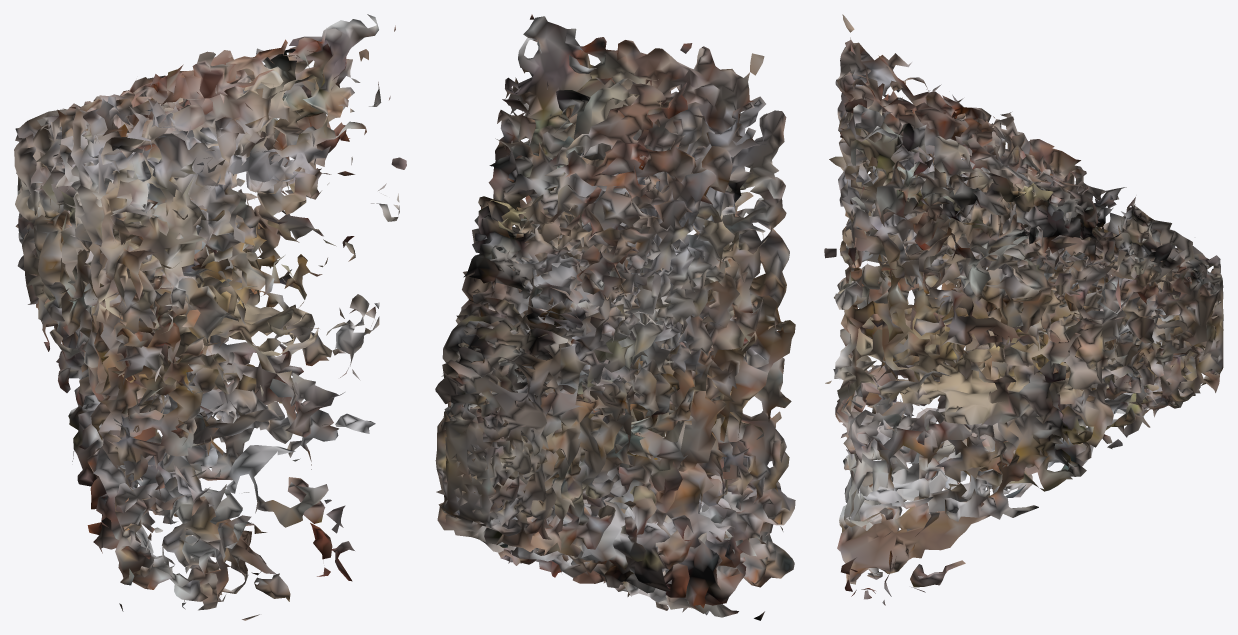
Rendered from room_solid_mesh.glb.
3 views of the same model, side by side, from view 1: azimuth 30°, elevation 25°; view 2: azimuth 150°, elevation 25°; view 3: azimuth 270°, elevation 25° (orthographic). The views are drawn at different scales.
Parts seen in each view (by area): view 1: room_solid_mesh.ply; view 2: room_solid_mesh.ply; view 3: room_solid_mesh.ply.
Part boxes in pixels (left/top/right/bottom): room_solid_mesh.ply: left=14, top=14, right=406, bottom=620; room_solid_mesh.ply: left=435, top=14, right=795, bottom=620; room_solid_mesh.ply: left=824, top=14, right=1223, bottom=605.
Size of the model in its own units: 4.89 by 9.75 by 6.71.
